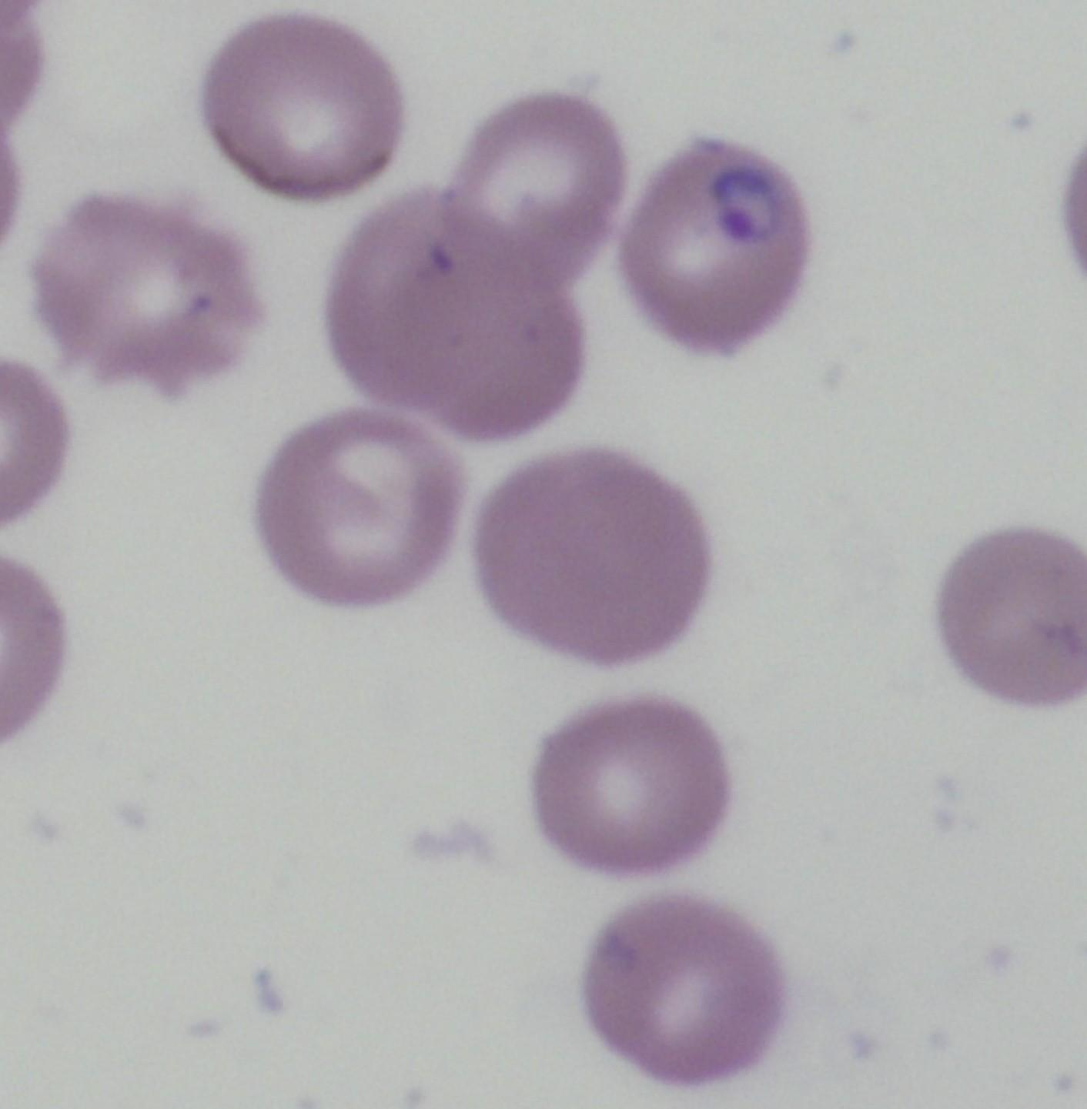Infected: (624, 139, 811, 351)
Uninfected: (470, 445, 713, 657), (28, 198, 262, 395), (321, 196, 537, 402), (251, 409, 458, 606), (439, 93, 623, 308), (583, 891, 780, 1083), (203, 19, 405, 202), (534, 701, 732, 869), (939, 522, 1087, 714), (438, 277, 580, 440)
